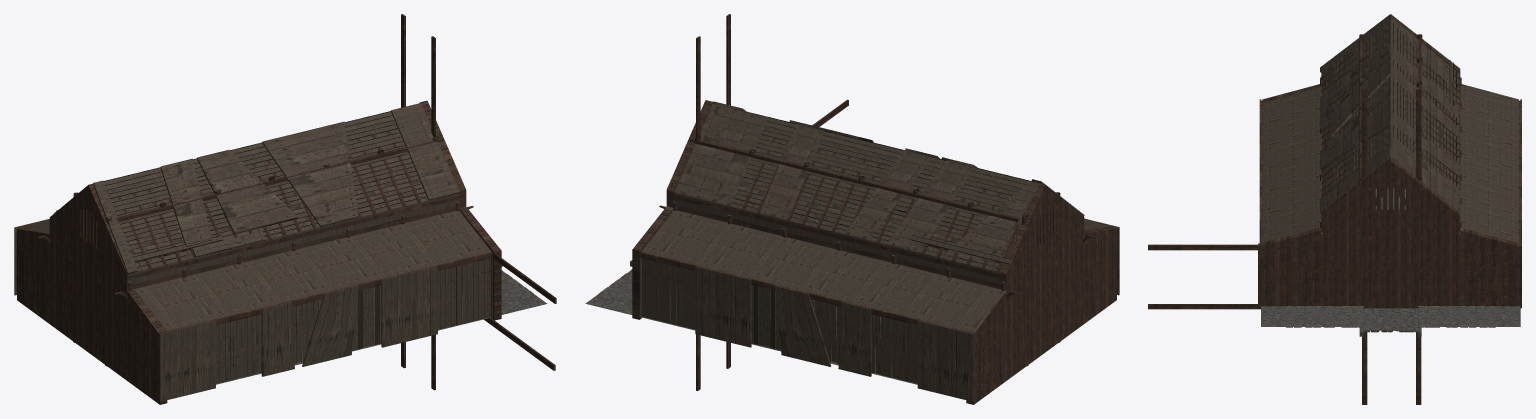
Rendered from sana.fbx.
3 views of the same model, side by side, from view 1: azimuth 30°, elevation 25°; view 2: azimuth 150°, elevation 25°; view 3: azimuth 270°, elevation 25° (orthographic). The views are drawn at different scales.
Parts seen in each view (by area): view 1: Plane.012, Plane.016, Plane.023, Plane.015, Plane.011, Cube.007, Cube.001, Cube, Cube.009, Plane.004, Plane.001, Cube.003 (+4 smaller); view 2: Plane.012, Plane.023, Plane.009, Plane.015, Plane.011, Cube.007, Cube.001, Cube, Plane.004, Cube.003, Cube.009, Plane.001 (+5 smaller); view 3: Plane.004, Plane.012, Plane.011, Plane.016, Plane.009, Plane.001, Cube.009, Plane.010, Cube, Plane.006, Cube.010, Cube.003 (+6 smaller).
Part boxes in pixels (x1,y1,x2,y2): Plane.012: (16, 163, 491, 333); Plane.016: (93, 103, 459, 273); Plane.023: (17, 183, 167, 404); Plane.015: (14, 219, 437, 401); Plane.011: (103, 111, 428, 271); Cube.007: (16, 233, 490, 383); Cube.001: (17, 193, 492, 333); Cube: (111, 130, 421, 268); Cube.009: (401, 14, 556, 390); Plane.004: (389, 100, 501, 320); Plane.001: (154, 257, 547, 384); Cube.003: (115, 138, 443, 242); Plane.012: (641, 161, 1117, 333); Plane.023: (966, 183, 1116, 404); Plane.009: (674, 103, 1039, 262); Plane.015: (695, 218, 1119, 401); Plane.011: (731, 117, 1030, 271); Cube.007: (641, 233, 1117, 383); Cube.001: (640, 193, 1116, 333); Cube: (681, 137, 1024, 271); Plane.004: (632, 100, 756, 319); Cube.003: (690, 138, 1019, 222); Cube.009: (696, 14, 848, 390); Plane.001: (585, 270, 917, 384); Plane.004: (1258, 158, 1521, 308); Plane.012: (1262, 84, 1518, 242); Plane.011: (1321, 20, 1460, 195); Plane.016: (1320, 15, 1390, 213); Plane.009: (1390, 16, 1460, 211); Plane.001: (1261, 306, 1520, 326); Cube.009: (1148, 89, 1421, 404); Plane.010: (1286, 306, 1495, 327); Cube: (1321, 31, 1460, 209); Plane.006: (1363, 188, 1417, 332); Cube.010: (1148, 304, 1260, 309); Cube.003: (1359, 40, 1421, 184).
Size of the model in its own units: 2268 by 1862 by 2000.
6 materials, 4 textured.
